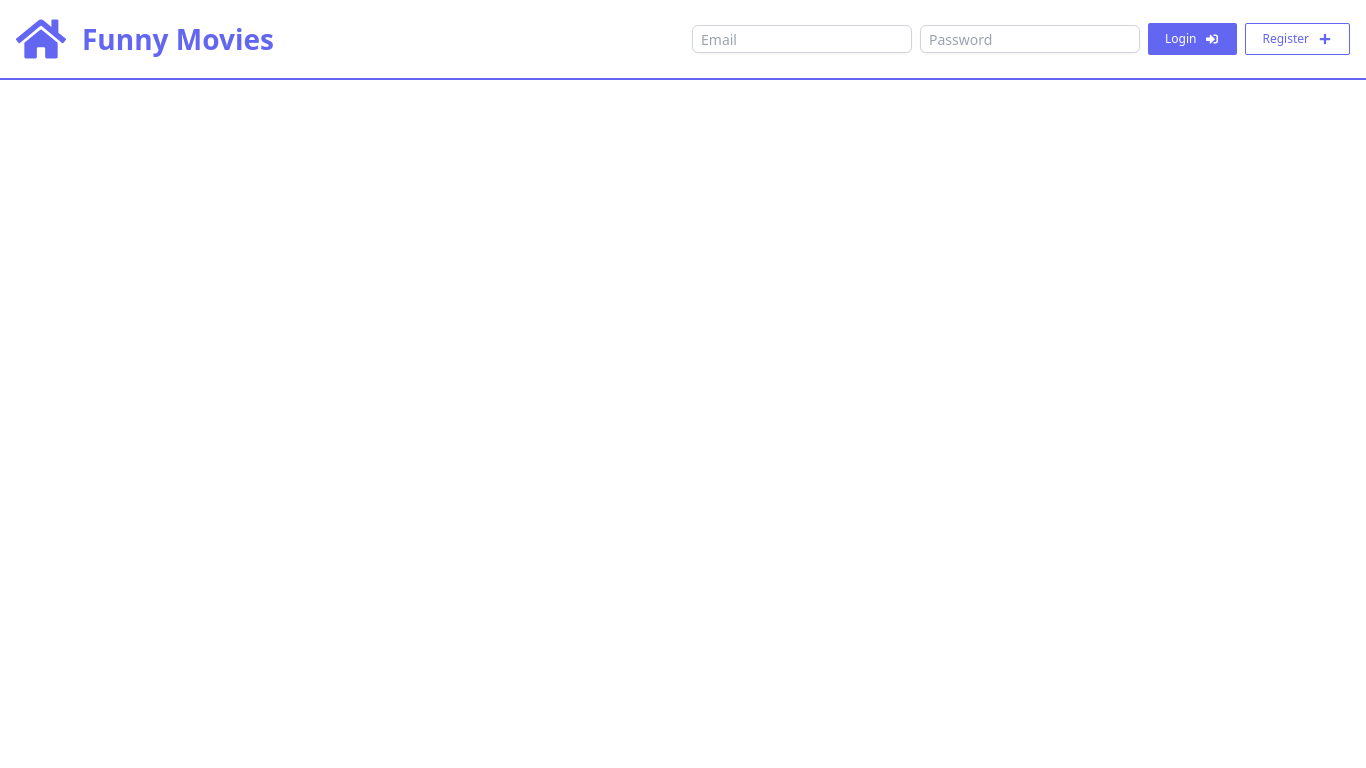
Register › should auto login when register succeed
Click the button "Register" at (1298, 39), box [1246, 23, 1350, 55]
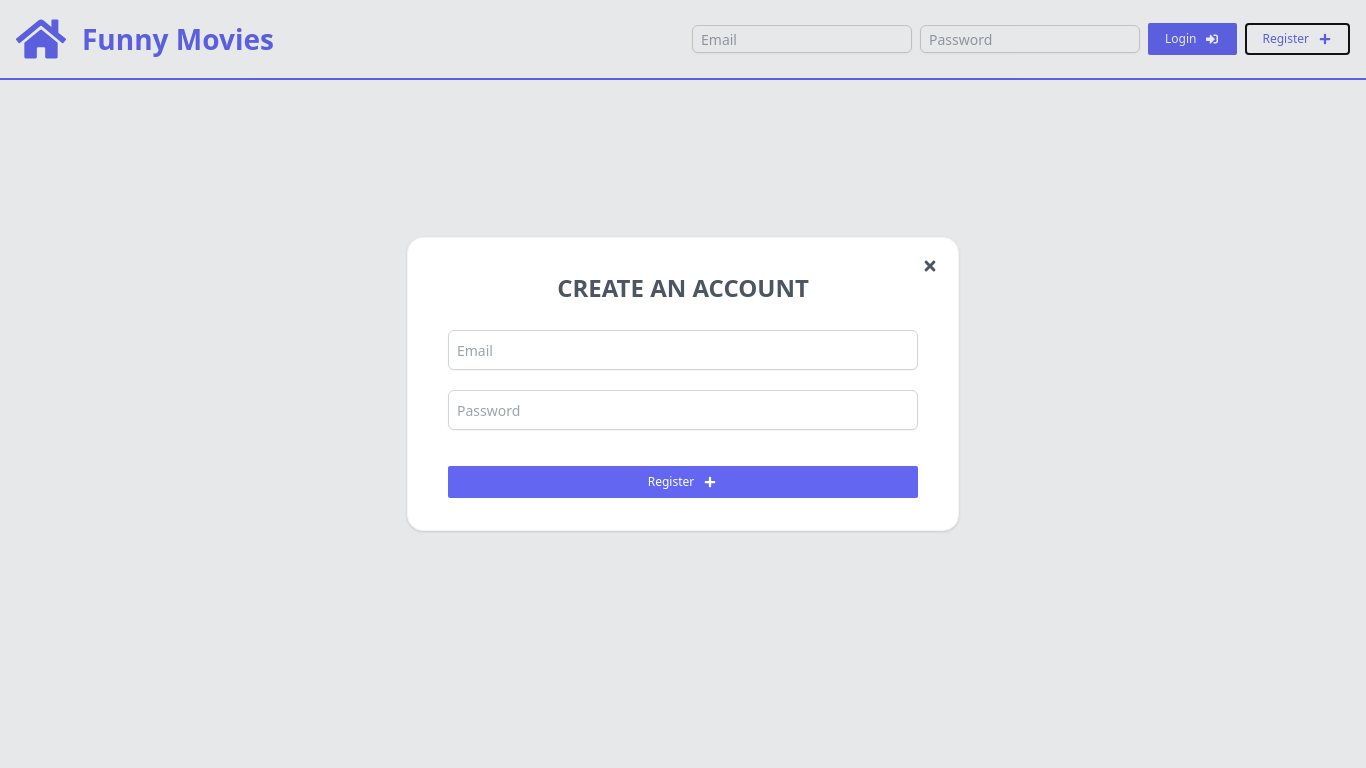
expect the element with test id "create-account-modal" is shown: met, box [407, 237, 959, 531]
Type "user@gmail.com" into the field with placeholder "Email" at (683, 350), box [448, 330, 918, 370]
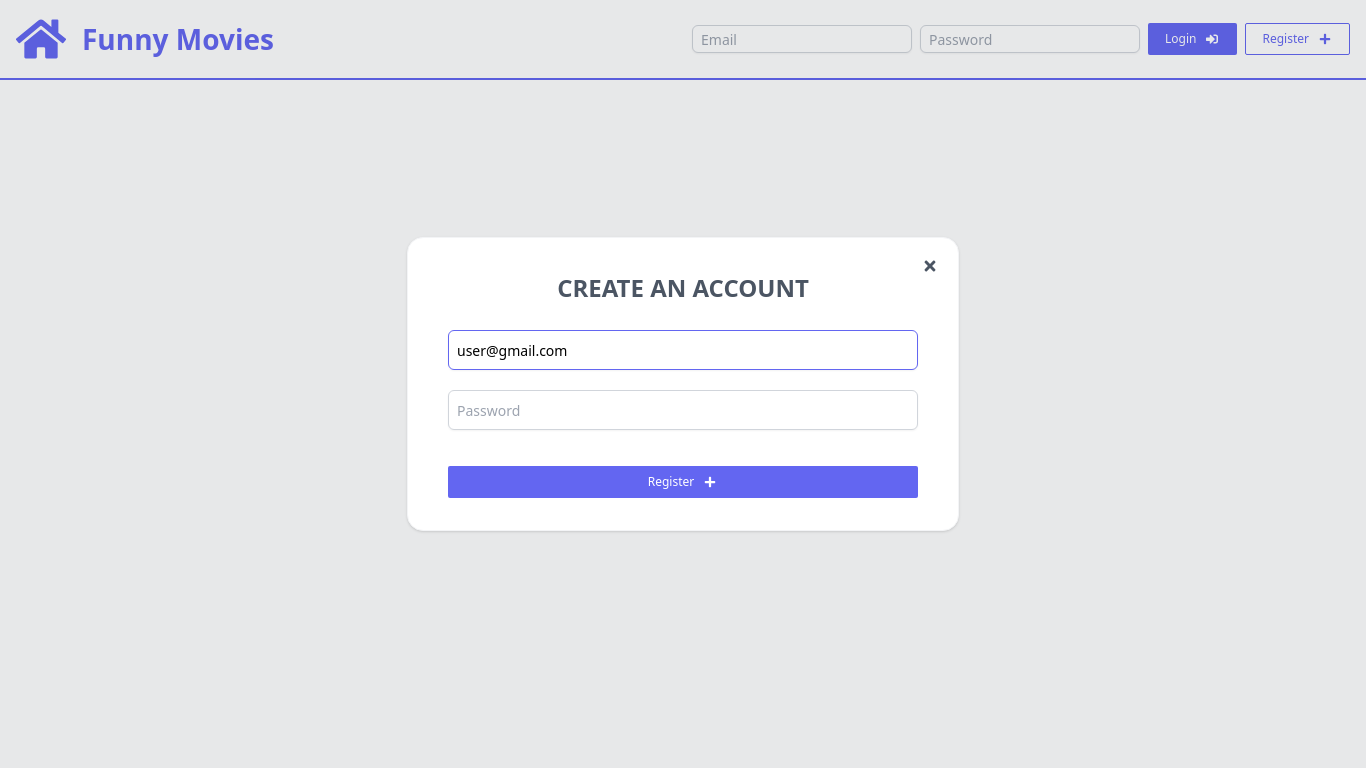
Type "123123123" into the password field with placeholder "Password" at (683, 410), box [448, 390, 918, 430]
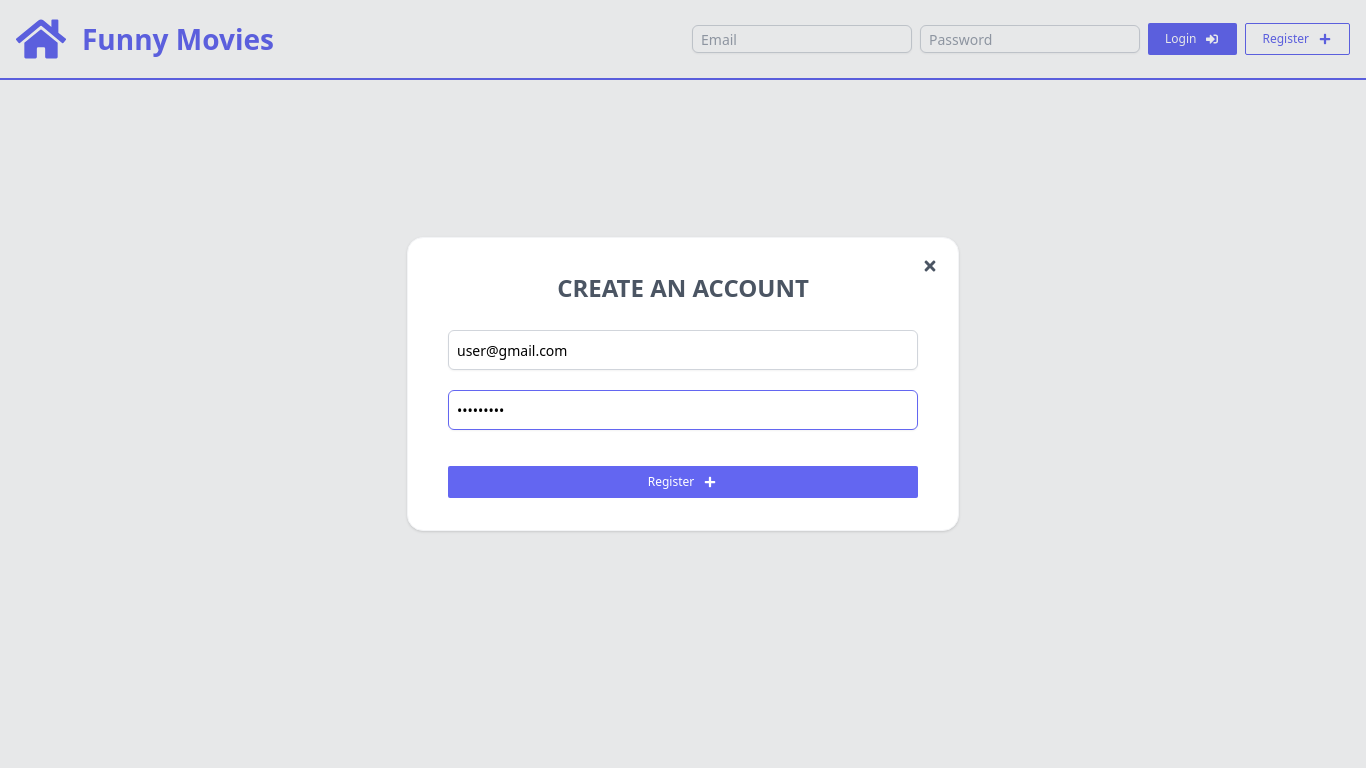
Click the button "Register" at (683, 482), box [448, 466, 918, 498]
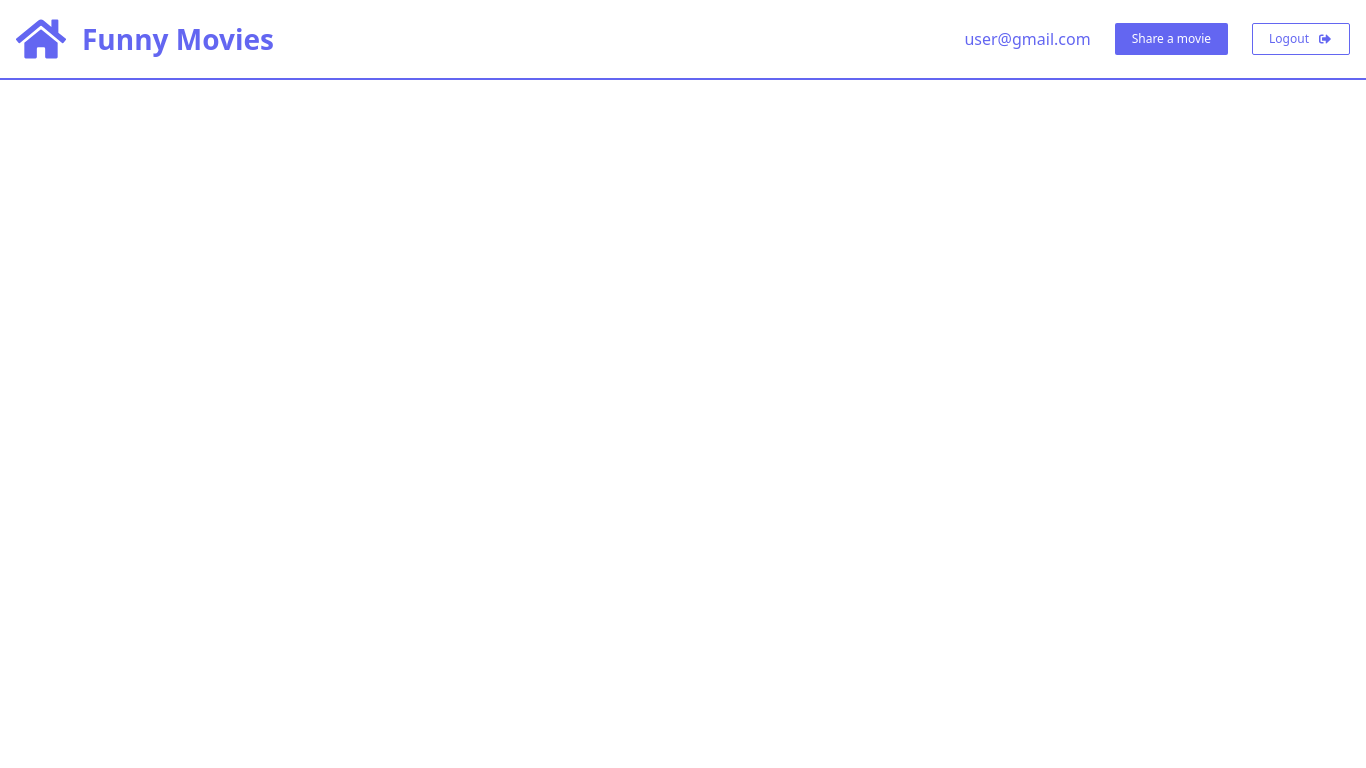
expect the element with test id "create-account-modal" is gone: met
expect the element with test id "profile-section" is shown: met, box [964, 23, 1350, 55]
